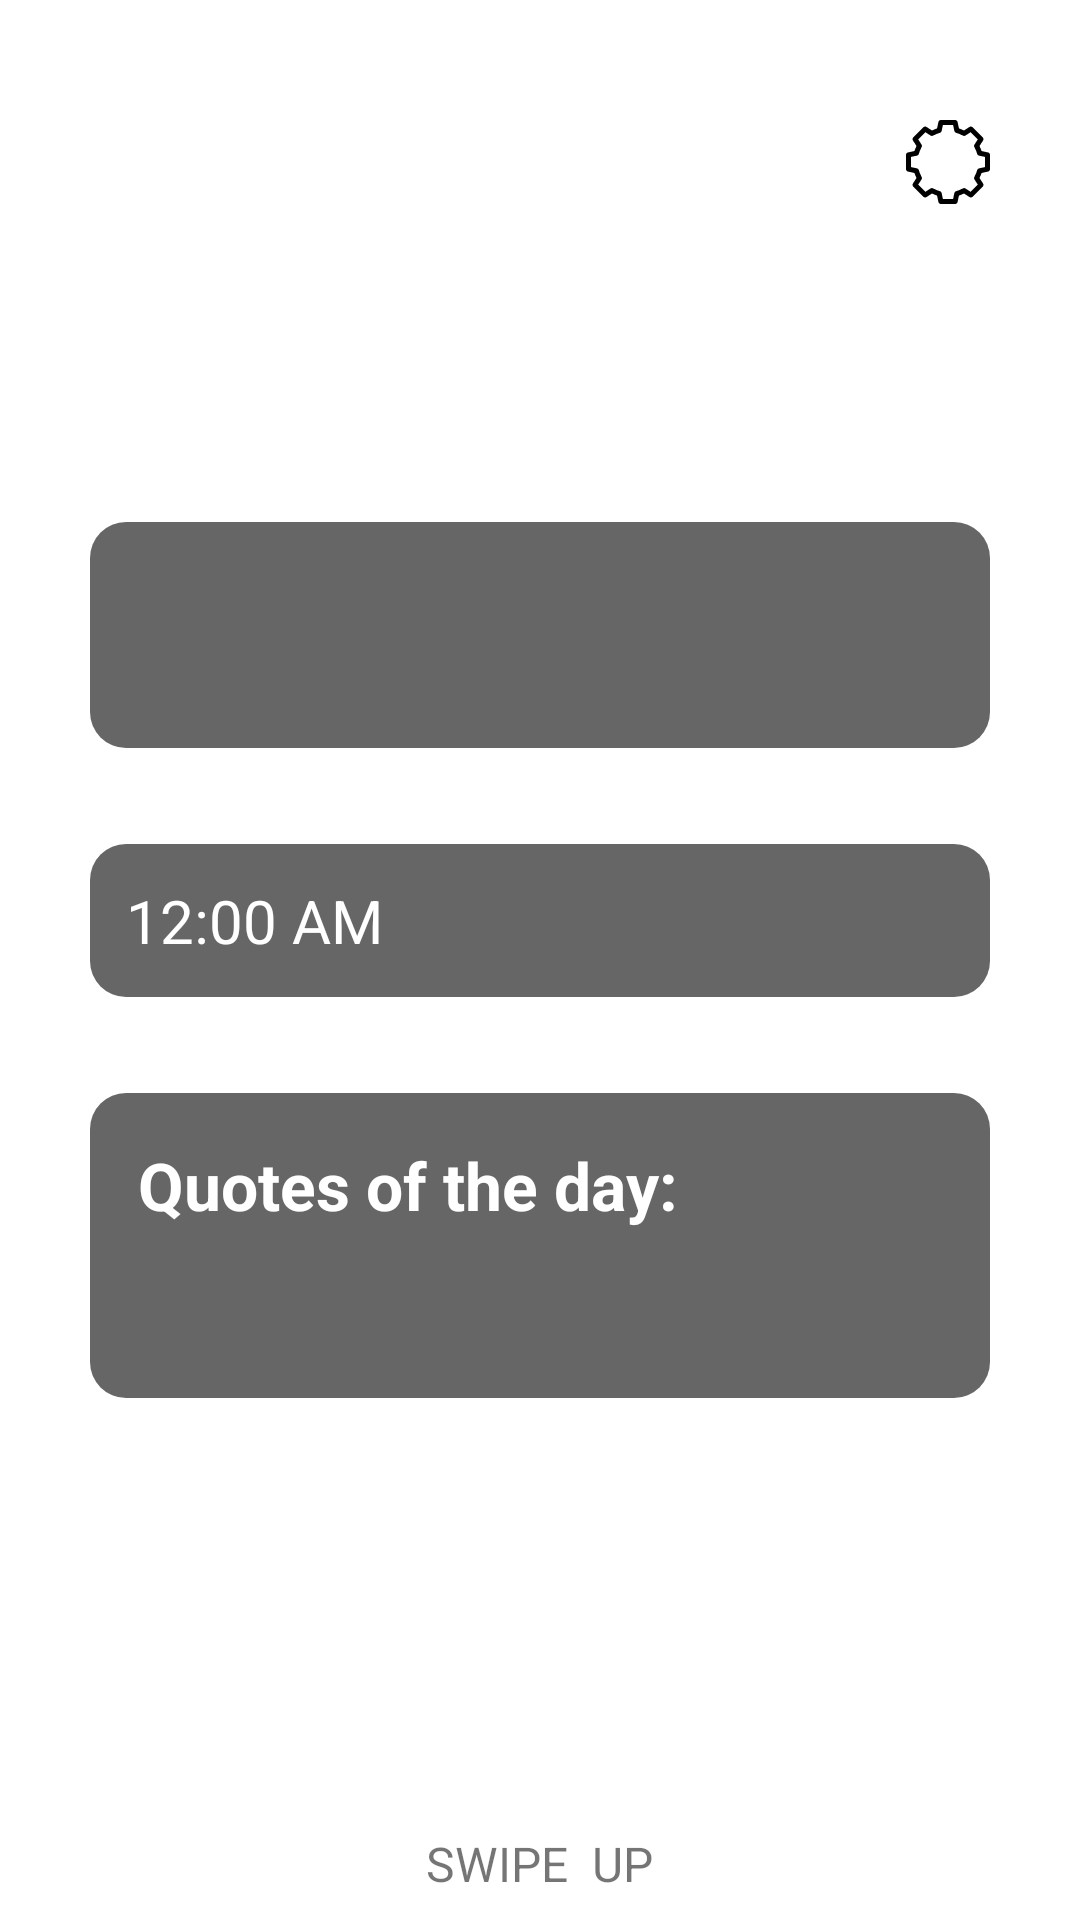

Locate icon controls on the screen. Image size 1080 × 1920, boxes as (x1, y1, x2, y2).
wheel: (906, 120, 990, 204)
